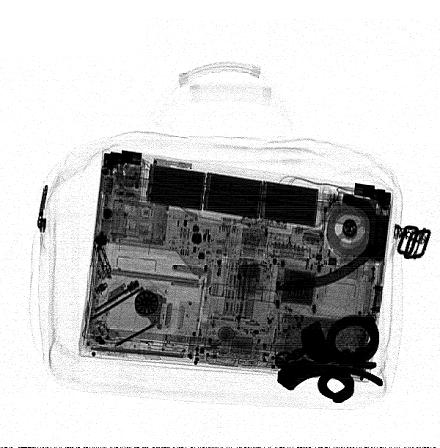HandCuffs: (273, 310, 385, 404)
